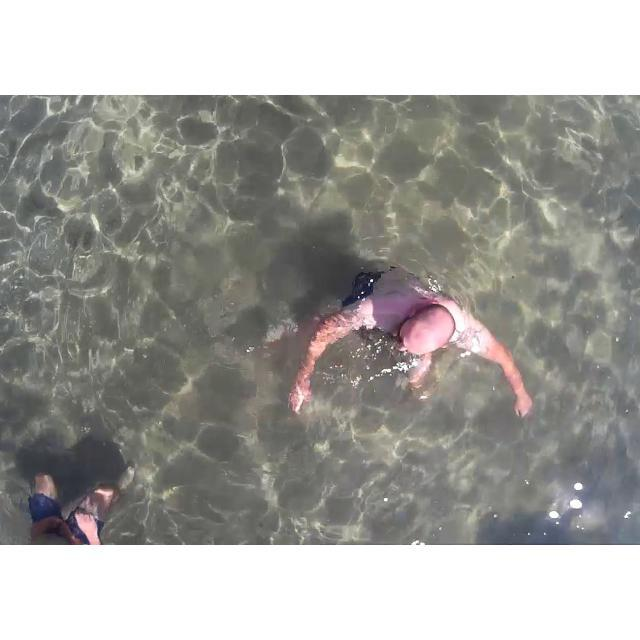human: (286, 246, 530, 434)
